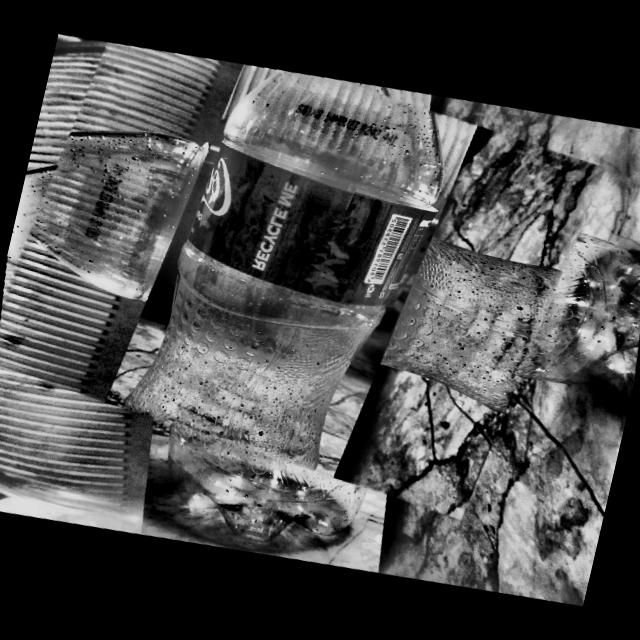Plastic-Bottle: (0, 0, 630, 550)
